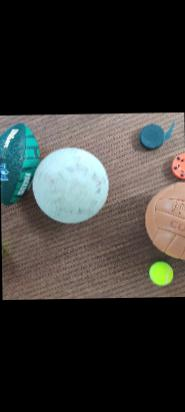Football size 5: (28, 146, 109, 228), (141, 179, 183, 262)
Rugby: (0, 119, 44, 210)
hockey puck: (137, 123, 164, 150), (168, 152, 183, 182)
tennis: (142, 260, 173, 288)
